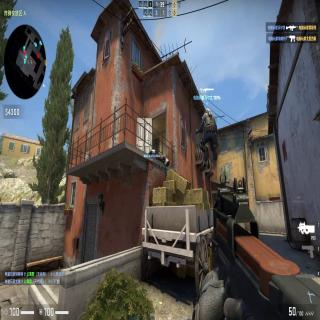CT-Body: (197, 104, 219, 162)
CT-Head: (204, 106, 211, 115)
